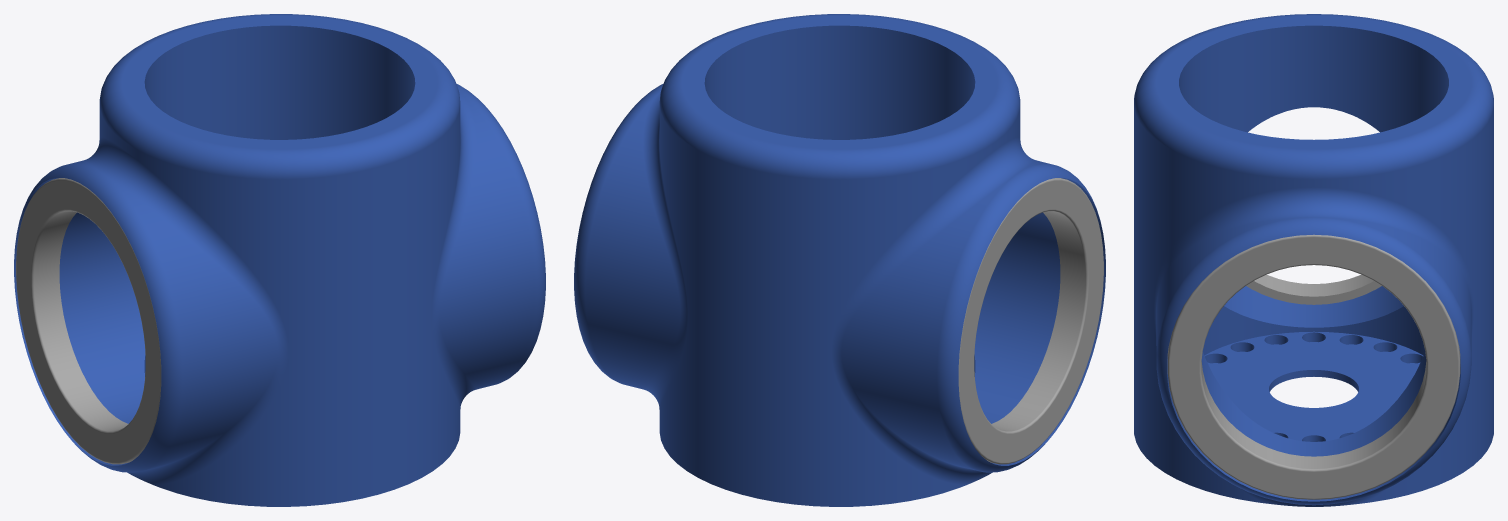
The picture shows the model from 3 angles, left to right: view 1: azimuth 30°, elevation 25°; view 2: azimuth 150°, elevation 25°; view 3: azimuth 270°, elevation 25°; orthographic projection.
Visible parts, largest first — view 1: mesh0_mesh_119, mesh0_mesh_109, mesh0_mesh_135, mesh0_mesh_125, mesh0_mesh_113, mesh0_mesh_116, mesh141_mesh_4, mesh0_mesh_115, mesh0_mesh_139, mesh0_mesh_131, mesh141_mesh_7, mesh0_mesh_129 (+9 smaller); view 2: mesh0_mesh_120, mesh0_mesh_110, mesh0_mesh_114, mesh0_mesh_117, mesh141_mesh_4, mesh0_mesh_133, mesh0_mesh_124, mesh0_mesh_115, mesh0_mesh_136, mesh0_mesh_134, mesh0_mesh_123, mesh0_mesh_131 (+11 smaller); view 3: mesh151_mesh_4, mesh0_mesh_119, mesh0_mesh_120, mesh0_mesh_5, mesh0_mesh_109, mesh0_mesh_110, mesh0_mesh_115, mesh0_mesh_122, mesh0_mesh_116, mesh0_mesh_117, mesh0_mesh_126, mesh0_mesh_129 (+18 smaller).
Part boxes in pixels (<box>): mesh0_mesh_119: <box>123,106,460,506</box>; mesh0_mesh_109: <box>144,25,397,376</box>; mesh0_mesh_135: <box>106,176,278,469</box>; mesh0_mesh_125: <box>439,93,534,389</box>; mesh0_mesh_113: <box>59,212,145,422</box>; mesh0_mesh_116: <box>123,49,460,179</box>; mesh141_mesh_4: <box>16,180,160,462</box>; mesh0_mesh_115: <box>122,16,437,149</box>; mesh0_mesh_139: <box>88,175,182,472</box>; mesh0_mesh_131: <box>83,137,288,390</box>; mesh141_mesh_7: <box>34,211,115,423</box>; mesh0_mesh_129: <box>458,88,545,383</box>; mesh0_mesh_120: <box>659,106,996,506</box>; mesh0_mesh_110: <box>722,25,975,376</box>; mesh0_mesh_114: <box>974,212,1060,422</box>; mesh0_mesh_117: <box>659,49,996,179</box>; mesh141_mesh_4: <box>959,180,1103,462</box>; mesh0_mesh_133: <box>841,176,1013,375</box>; mesh0_mesh_124: <box>585,93,680,312</box>; mesh0_mesh_115: <box>682,16,997,149</box>; mesh0_mesh_136: <box>937,175,1031,472</box>; mesh0_mesh_134: <box>841,352,973,469</box>; mesh0_mesh_123: <box>585,290,680,389</box>; mesh0_mesh_131: <box>841,137,1036,318</box>; mesh151_mesh_4: <box>1170,237,1457,498</box>; mesh0_mesh_119: <box>1134,108,1313,503</box>; mesh0_mesh_120: <box>1314,108,1493,503</box>; mesh0_mesh_5: <box>1204,331,1423,440</box>; mesh0_mesh_109: <box>1314,25,1448,355</box>; mesh0_mesh_110: <box>1179,25,1313,355</box>; mesh0_mesh_115: <box>1156,16,1471,149</box>; mesh0_mesh_122: <box>1158,187,1473,338</box>; mesh0_mesh_116: <box>1134,14,1313,179</box>; mesh0_mesh_117: <box>1314,14,1493,179</box>; mesh0_mesh_126: <box>1314,217,1471,505</box>; mesh0_mesh_129: <box>1156,217,1313,505</box>.
Size of the model in its own units: 0.0984 by 0.0851 by 0.0799.
